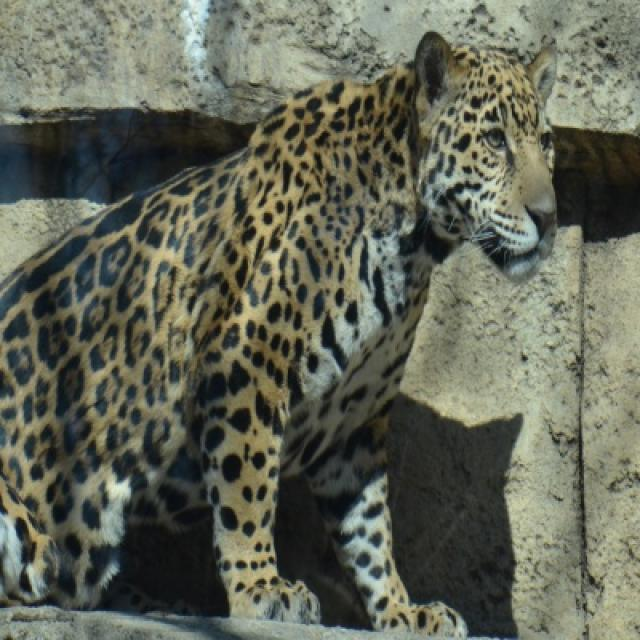Jaguar: (0, 32, 557, 630)
